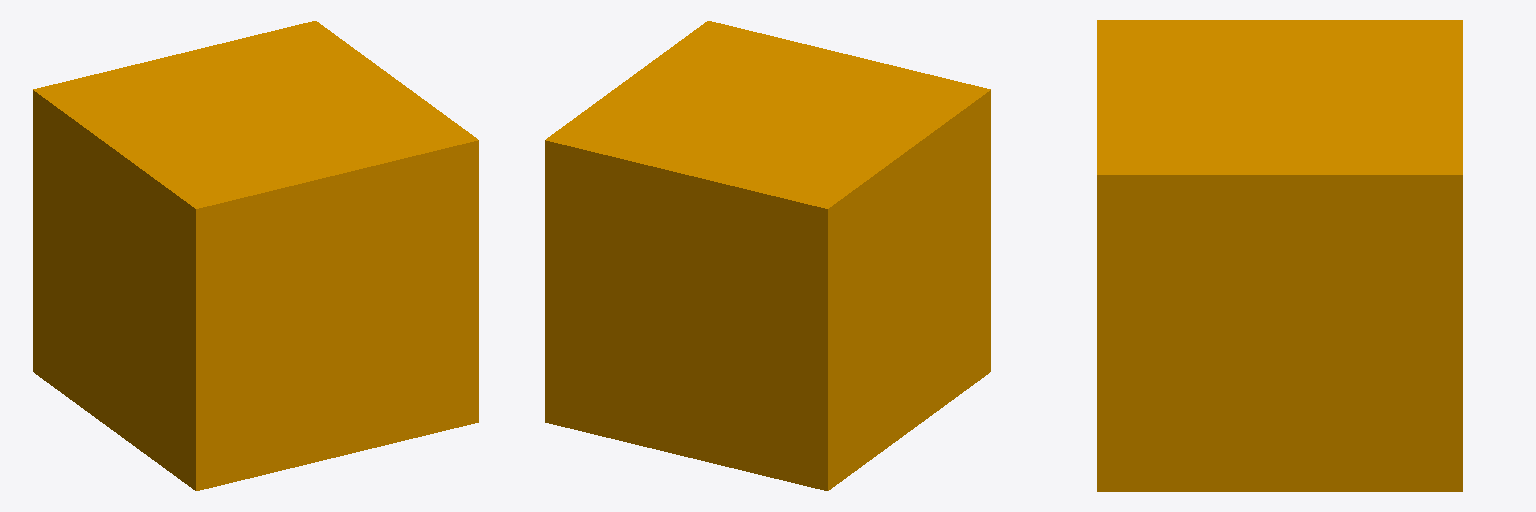
URDF robot description (object):
<robot name="object">
  <link name="object">
    <visual>
      <origin xyz="0 0 0" />
      <geometry>
        <box size="0.08400000000000002 0.08400000000000002 0.08" />
      </geometry>
    </visual>

    <collision>
      <origin xyz="0 0 0" />
      <geometry>
        <box size="0.08400000000000002 0.08400000000000002 0.08" />
      </geometry>
    </collision>

    <inertial>
      <mass value="0.05" />
      <inertia ixx="0.0001" ixy="0.0" ixz="0.0" iyy="0.0001" iyz="0.0" izz="0.0001" />
    </inertial>
  </link>
</robot>

--- Render facts (derived) ---
Views: 3 orthographic renders of the robot side by side, from view 1: azimuth 30°, elevation 25°; view 2: azimuth 150°, elevation 25°; view 3: azimuth 270°, elevation 25°.
Robot: object — 1 links, 0 joints (none); root link object; default pose: all joints at 0.
Links seen in each view (by area): view 1: object; view 2: object; view 3: object.
Link boxes in pixels (box(x1,y1,x2,y2)): object: box(33, 21, 478, 490); object: box(545, 21, 990, 490); object: box(1097, 20, 1462, 491).
Size in the robot's own frame: 0.084 by 0.084 by 0.08 metres.
Geometry: primitives only (box / cylinder / sphere), no mesh files.